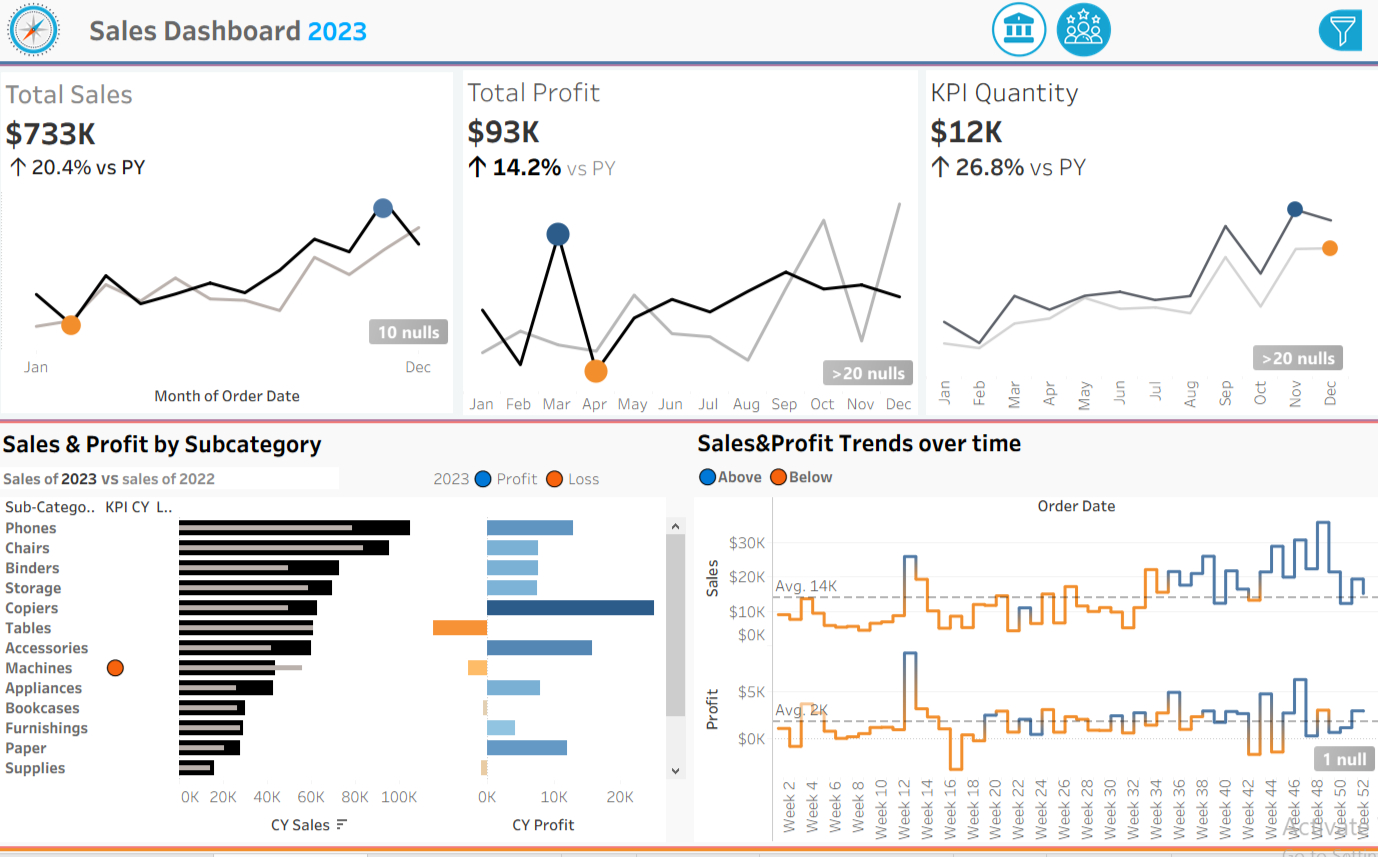

What the dashboard file says about the page in this screenshot:
{"tool":"tableau","page":{"name":"Sales Dashboard","canvas":[1000,1000],"units":"permille","ordinal":2},"visuals":[{"type":"image","param":"Image/Icon - Logo.png","box":[4.3,7,57.1,74.4]},{"type":"text","box":[61.4,7,650.7,74.4]},{"type":"dashboard-object","box":[712.1,7,45.7,74.4]},{"type":"dashboard-object","box":[757.8,7,46.4,74.4]},{"type":"dashboard-object","box":[940,19.8,47.5,51.2]},{"type":"worksheet","title":"KPI Sales","mark":"Line","rows":["Calculation_1244966434222086"],"cols":["Order Date"],"box":[3.6,87.2,331.4,410.5]},{"type":"worksheet","title":"KPI Profits","mark":"Automatic","rows":["Calculation_1244966480474129"],"cols":["Order Date"],"box":[335,87.2,330.7,410.5]},{"type":"worksheet","title":"KPI Quantity","mark":"Automatic","rows":["Calculation_1244966502883351"],"cols":["Order Date"],"box":[665.7,87.2,330.7,410.5]},{"type":"text","box":[865,88.5,130,66.2]},{"type":"parameter","param":"[Parameters].[Parameter 1244966413344769]","box":[865,154.8,130,70]},{"type":"blank","box":[865,224.8,130,48.6]},{"type":"text","box":[865,273.4,130,36.2]},{"type":"filter","title":"KPI Sales","param":"[federated.1blotq40zyepn1136ofxb00pnkki].[none:Category:nk]","box":[865,309.7,130,70]},{"type":"filter","title":"KPI Sales","param":"[federated.1blotq40zyepn1136ofxb00pnkki].[none:Sub-Category:nk]","box":[865,379.7,130,103.8]},{"type":"text","box":[865,483.4,130,36.2]},{"type":"text","box":[3.6,502.3,496.4,46.5]},{"type":"text","box":[500,502.3,463.1,43.3]},{"type":"filter","title":"KPI Sales","param":"[federated.1blotq40zyepn1136ofxb00pnkki].[none:Region:nk]","box":[865,519.6,130,70]},{"type":"text","box":[500,545.6,496.4,37.9]},{"type":"worksheet","title":"Legends","mark":"Automatic","box":[3.6,548.8,248.6,34.9]},{"type":"text","box":[252.1,548.8,247.9,34.9]},{"type":"worksheet","title":"Sales&Profit Trends Over Time ","mark":"Automatic","rows":["Calculation_1244966414786563","Calculation_1244966476754958"],"cols":["Order Date"],"box":[500,583.6,496.4,410.6]},{"type":"worksheet","title":"Subcategory Comparison","mark":"Bar","rows":["Sub-Category","Calculation_1244966508474394"],"cols":["Calculation_1244966414786563","Calculation_1244966415368196","Calculation_1244966476754958"],"box":[3.6,583.7,496.4,410.5]},{"type":"filter","title":"KPI Sales","param":"[federated.1blotq40zyepn1136ofxb00pnkki].[none:State:nk]","box":[865,589.6,130,70]},{"type":"filter","title":"KPI Sales","param":"[federated.1blotq40zyepn1136ofxb00pnkki].[none:City:nk]","box":[865,659.6,130,92.5]}]}

Visuals, with their boxes on the dashboard's canvas, which has no fixed pixel size, in thousandths of its width and height (x1, y1, x2, y2). These are canvas units, not pixel positions in the 1378x857 screenshot, which may show the page scaled, cropped or inside an application window:
image: locate(4, 7, 61, 81)
text: locate(61, 7, 712, 81)
dashboard-object: locate(712, 7, 758, 81)
dashboard-object: locate(758, 7, 804, 81)
dashboard-object: locate(940, 20, 988, 71)
"KPI Sales" worksheet (Line marks): locate(4, 87, 335, 498)
"KPI Profits" worksheet: locate(335, 87, 666, 498)
"KPI Quantity" worksheet: locate(666, 87, 996, 498)
text: locate(865, 88, 995, 155)
parameter: locate(865, 155, 995, 225)
blank: locate(865, 225, 995, 273)
text: locate(865, 273, 995, 310)
"KPI Sales" filter: locate(865, 310, 995, 380)
"KPI Sales" filter: locate(865, 380, 995, 484)
text: locate(865, 483, 995, 520)
text: locate(4, 502, 500, 549)
text: locate(500, 502, 963, 546)
"KPI Sales" filter: locate(865, 520, 995, 590)
text: locate(500, 546, 996, 584)
"Legends" worksheet: locate(4, 549, 252, 584)
text: locate(252, 549, 500, 584)
"Sales&Profit Trends Over Time " worksheet: locate(500, 584, 996, 994)
"Subcategory Comparison" worksheet (Bar marks): locate(4, 584, 500, 994)
"KPI Sales" filter: locate(865, 590, 995, 660)
"KPI Sales" filter: locate(865, 660, 995, 752)
